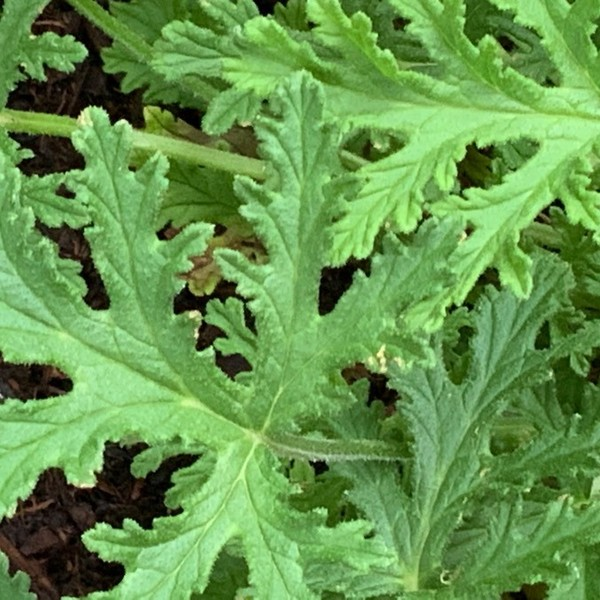obstacle: (30, 118, 527, 587), (180, 10, 569, 300)
